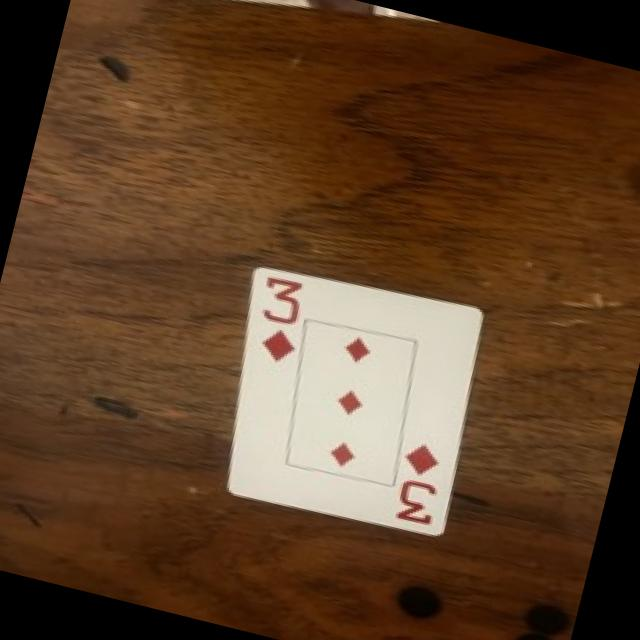3 of diamonds: (230, 268, 483, 533)
